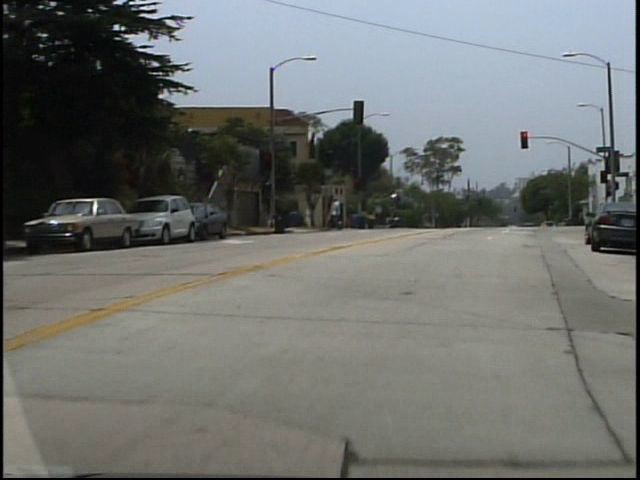person: (337, 199, 349, 233), (309, 204, 318, 231)
